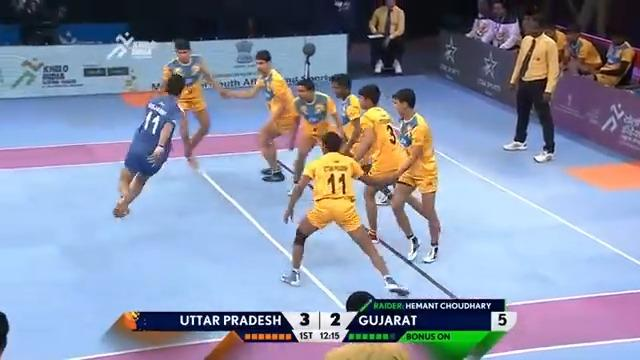Player: (278, 129, 411, 298), (219, 47, 302, 183), (386, 86, 443, 264), (500, 10, 563, 164), (158, 36, 225, 161), (292, 76, 328, 129), (355, 86, 386, 136), (335, 70, 358, 117)
Raider: (110, 73, 188, 220)
referee: (367, 0, 406, 75)
